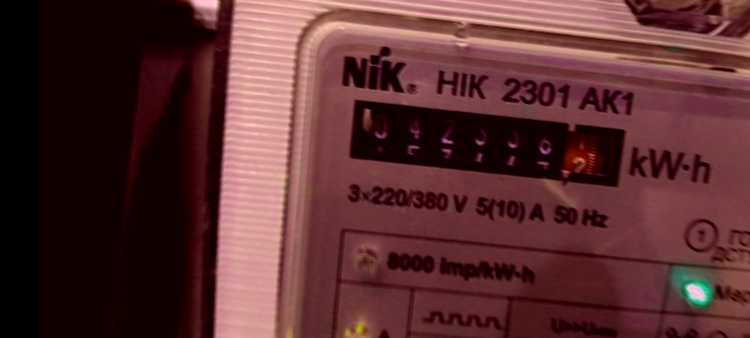0: (372, 112, 391, 142)
1: (575, 130, 589, 153)
2: (440, 116, 459, 147), (570, 155, 588, 175)
3: (504, 121, 523, 152), (472, 119, 490, 149)
4: (406, 111, 426, 142)
6: (537, 127, 558, 158)
screen: (337, 86, 640, 200)
